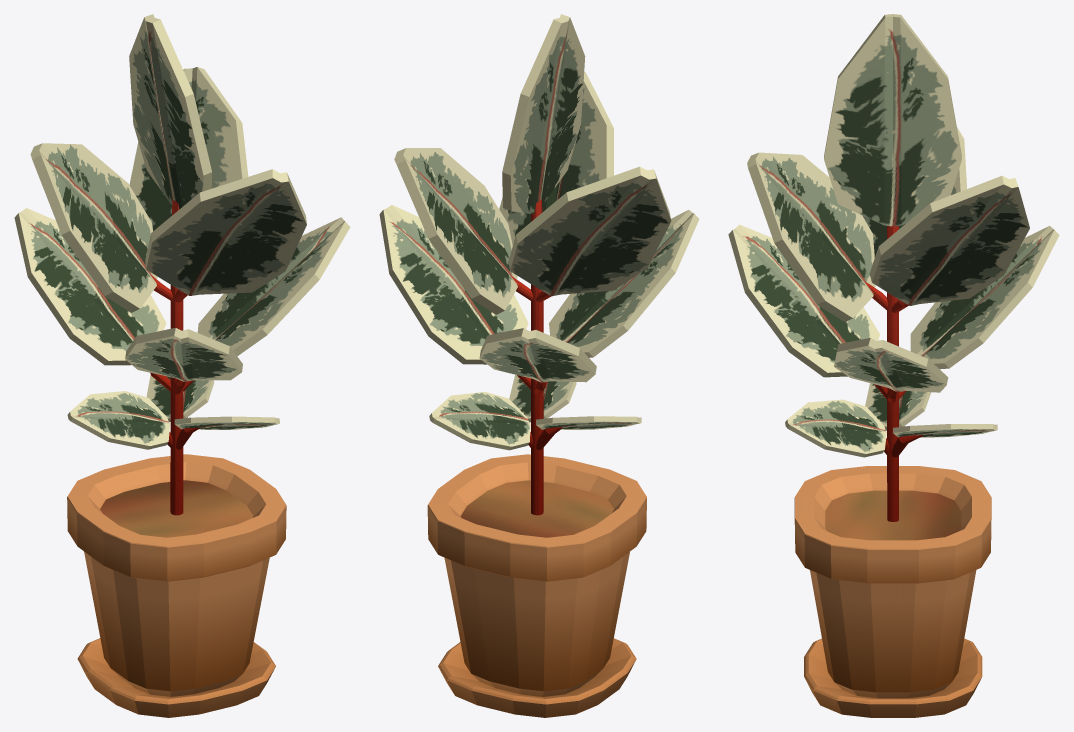
The model's file is rubber_plant.fbx.
The picture shows the model from 3 angles, left to right: view 1: azimuth 30°, elevation 25°; view 2: azimuth 150°, elevation 25°; view 3: azimuth 270°, elevation 25°; orthographic projection.
Visible parts, largest first — view 1: rubber_plant; view 2: rubber_plant; view 3: rubber_plant.
Part boxes in pixels (box(x1,y1,x2,y2)): rubber_plant: box(14, 14, 350, 717); rubber_plant: box(379, 14, 699, 717); rubber_plant: box(728, 14, 1059, 717).
Size of the model in its own units: 66.05 by 143 by 65.22.
